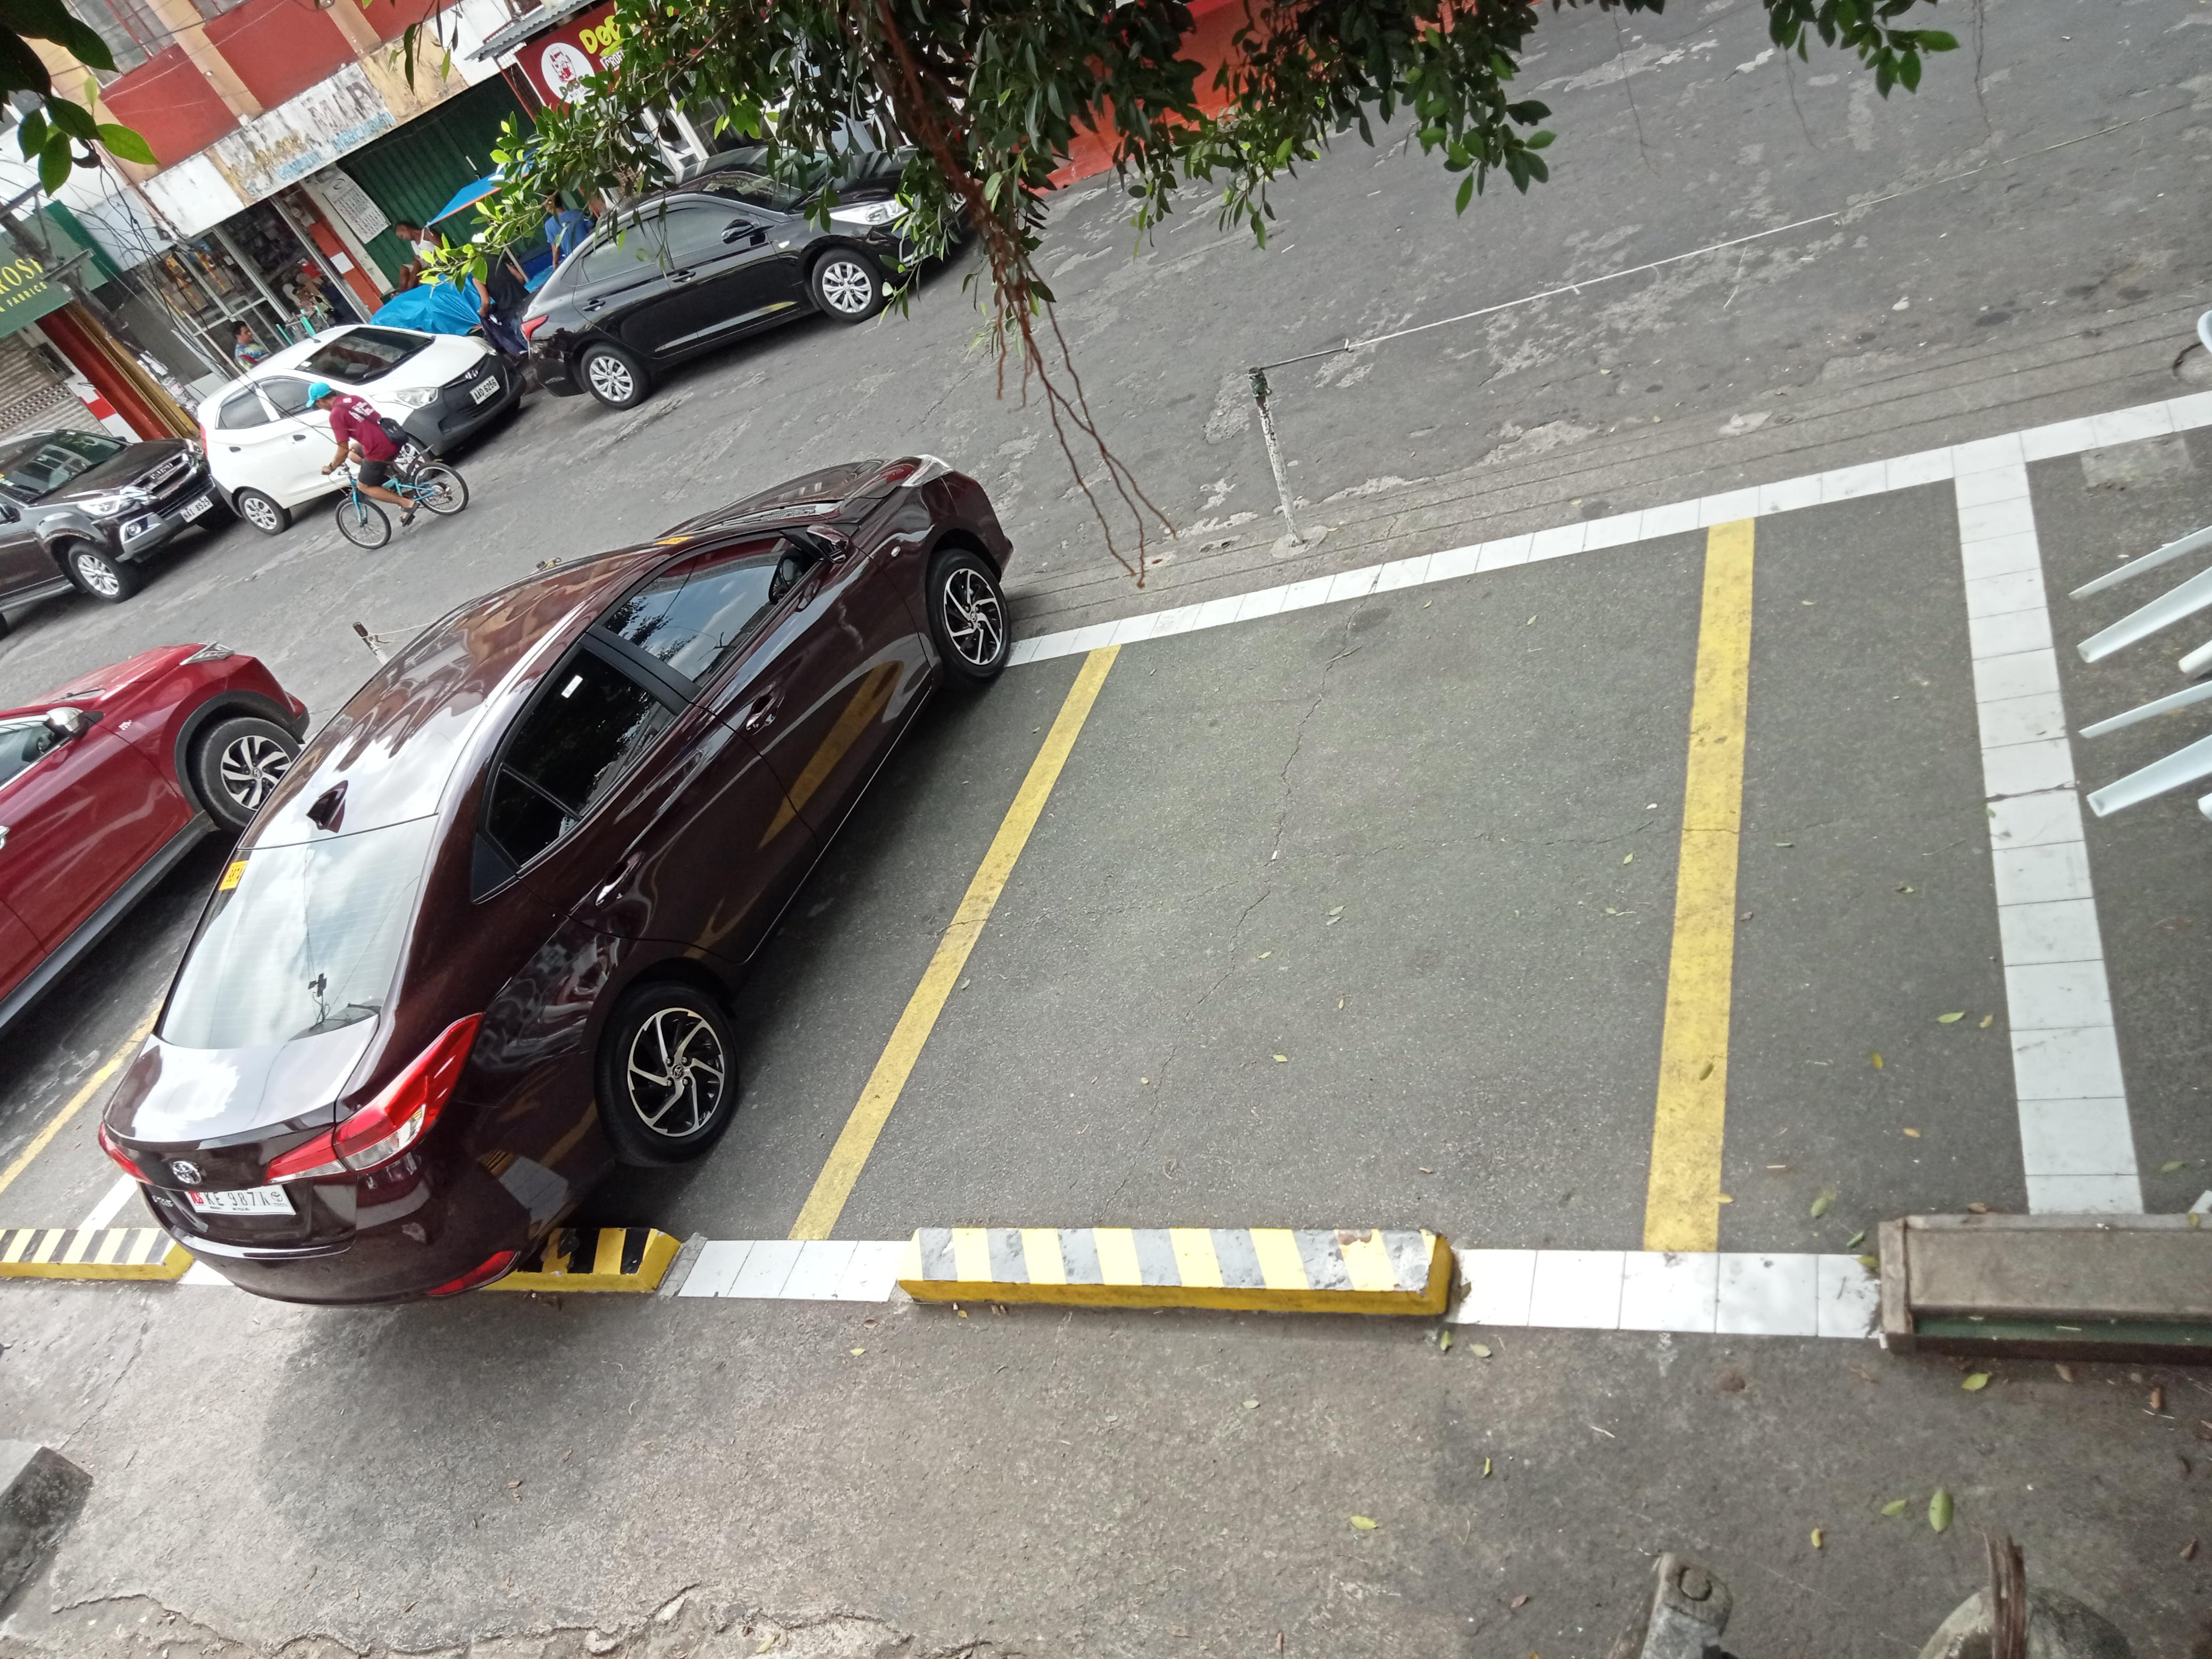occupied: (42, 622, 1139, 1297)
vacant: (766, 486, 1763, 1330), (1639, 434, 2163, 1347)
